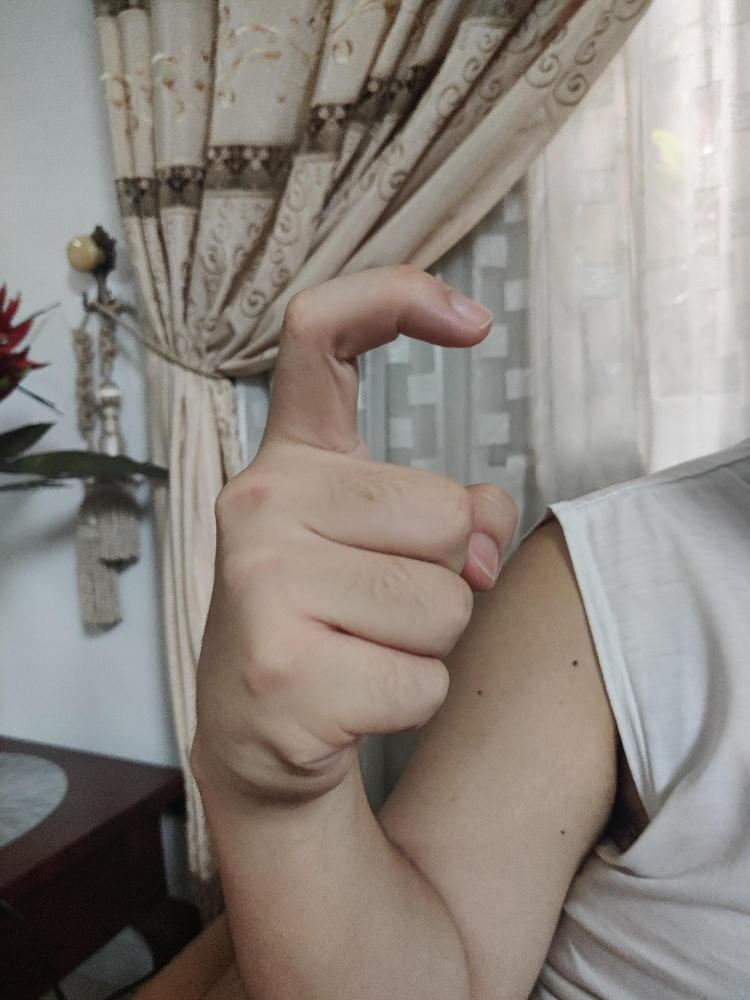x: (194, 261, 520, 805)
